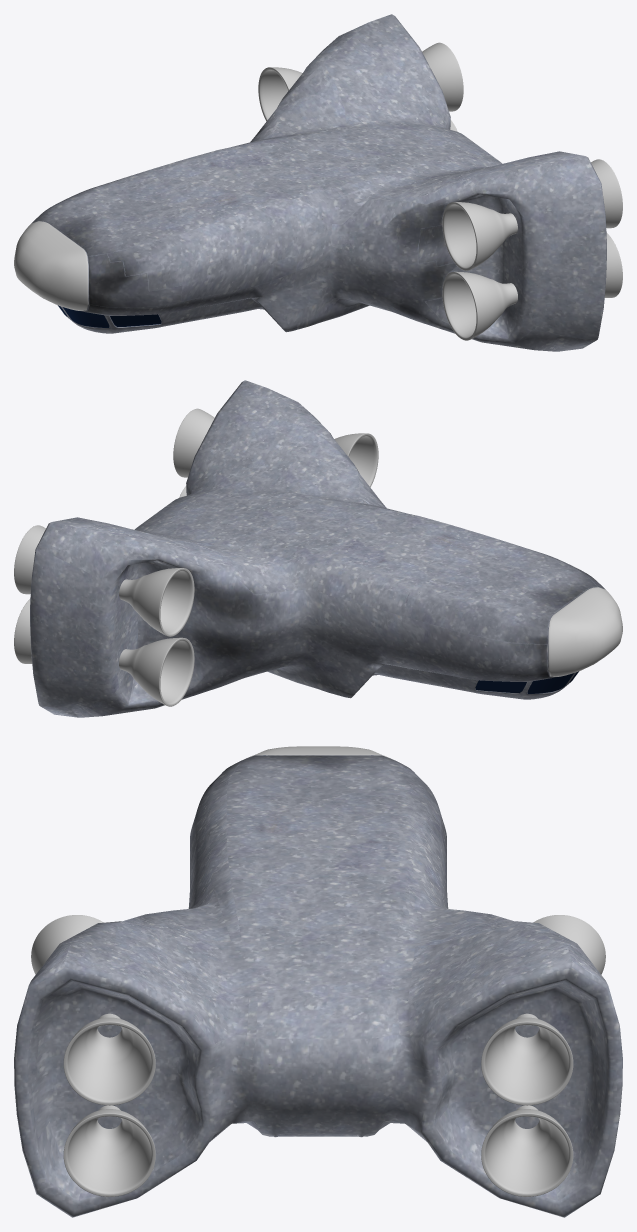
File: spacecraftV2.1.fbx
3 views of the same model, one above another, from view 1: azimuth 30°, elevation 25°; view 2: azimuth 150°, elevation 25°; view 3: azimuth 270°, elevation 25° (orthographic). The views are drawn at different scales.
Parts seen in each view (by area): view 1: Cube; view 2: Cube; view 3: Cube.
Boxes of the visible parts, box(x1,y1,x2,y2) form: Cube: box(14, 14, 622, 351); Cube: box(14, 380, 622, 717); Cube: box(14, 746, 622, 1217).
Size of the model in its own units: 703 by 260 by 562.
